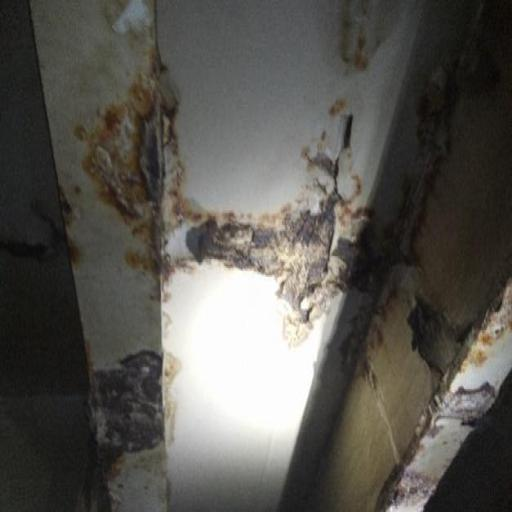Detect-rust-on-metal-surfaces: (82, 35, 504, 472), (387, 283, 508, 506), (83, 347, 194, 508), (336, 2, 416, 71), (1, 234, 93, 271)
